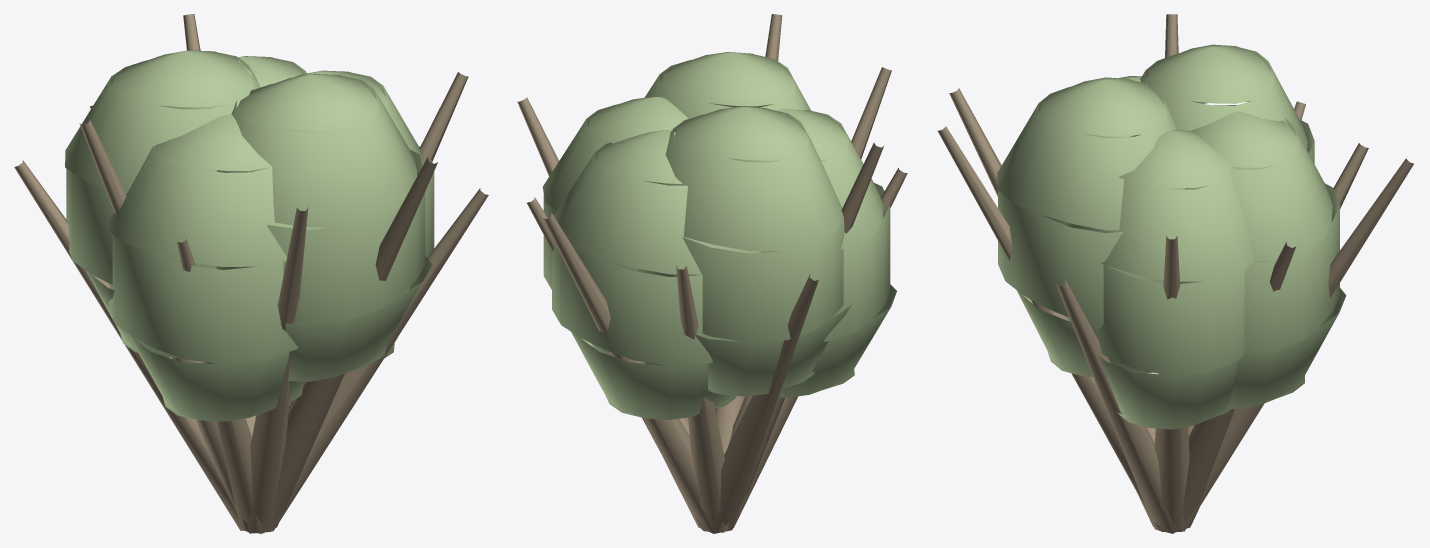
The model's file is myrtus-communis.glb.
3 renders of one model, left to right at view 1: azimuth 30°, elevation 25°; view 2: azimuth 150°, elevation 25°; view 3: azimuth 270°, elevation 25°, orthographic. The views are drawn at different scales.
Visible parts, largest first — view 1: myrtus-communis; view 2: myrtus-communis; view 3: myrtus-communis.
Boxes of the visible parts, bbox=[...] form: myrtus-communis: bbox=[14, 14, 488, 533]; myrtus-communis: bbox=[517, 14, 907, 533]; myrtus-communis: bbox=[937, 14, 1413, 533].
Bounding box in the file's own units: 0.9181 × 1.07 × 1.02.
